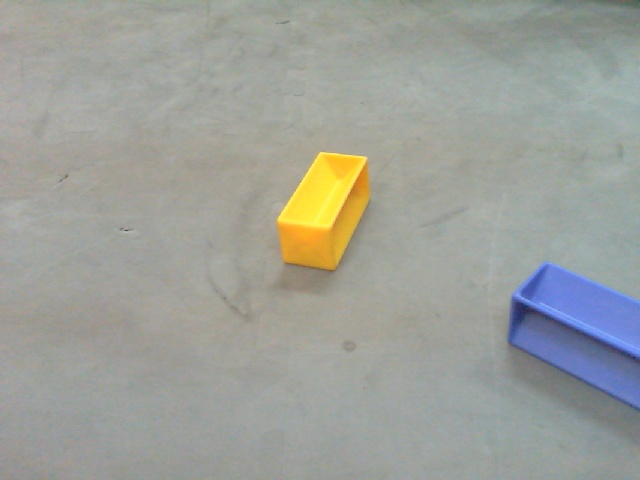BlueSample: (504, 255, 640, 414)
YellowSample: (274, 149, 371, 282)
